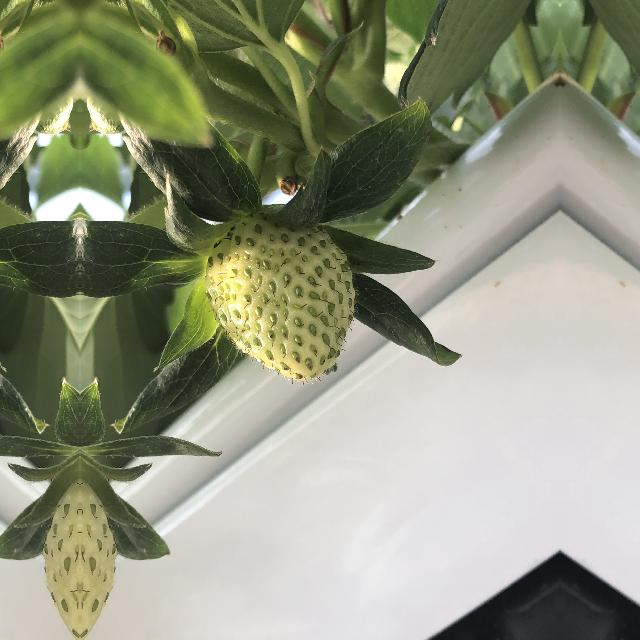Health_25: (200, 203, 364, 389)
